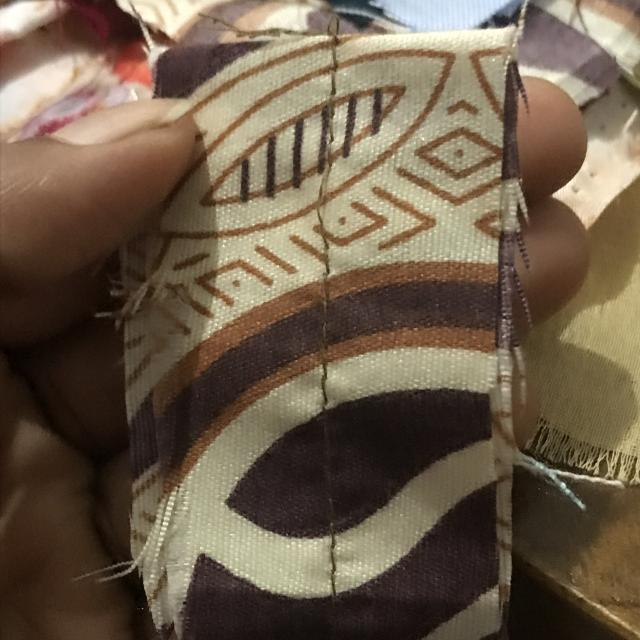skip: (309, 143, 340, 251)
